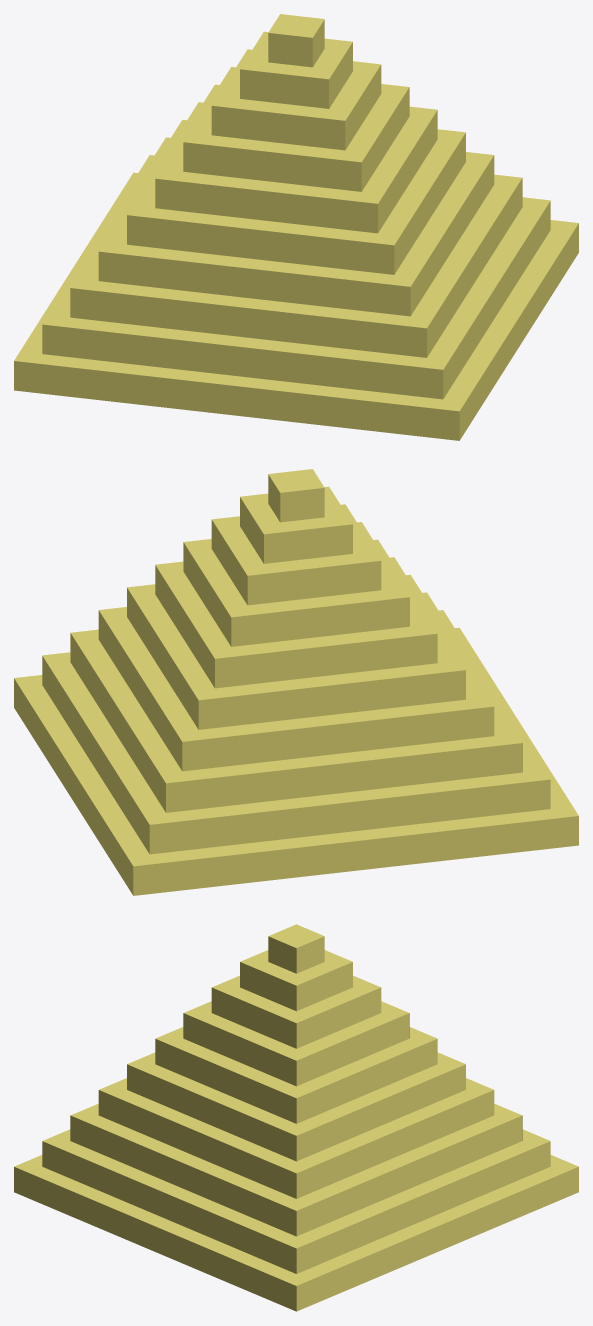
The model's file is myPyramid.fbx.
The picture shows the model from 3 angles, top to bottom: view 1: azimuth 30°, elevation 25°; view 2: azimuth 150°, elevation 25°; view 3: azimuth 270°, elevation 25°; orthographic projection. The views are drawn at different scales.
Parts seen in each view (by area): view 1: Pyramid; view 2: Pyramid; view 3: Pyramid.
Part boxes in pixels (left/top/right/bottom): Pyramid: left=14, top=14, right=578, bottom=440; Pyramid: left=14, top=469, right=578, bottom=895; Pyramid: left=14, top=924, right=578, bottom=1311.
Bounding box in the file's own units: 200 × 100 × 200.
